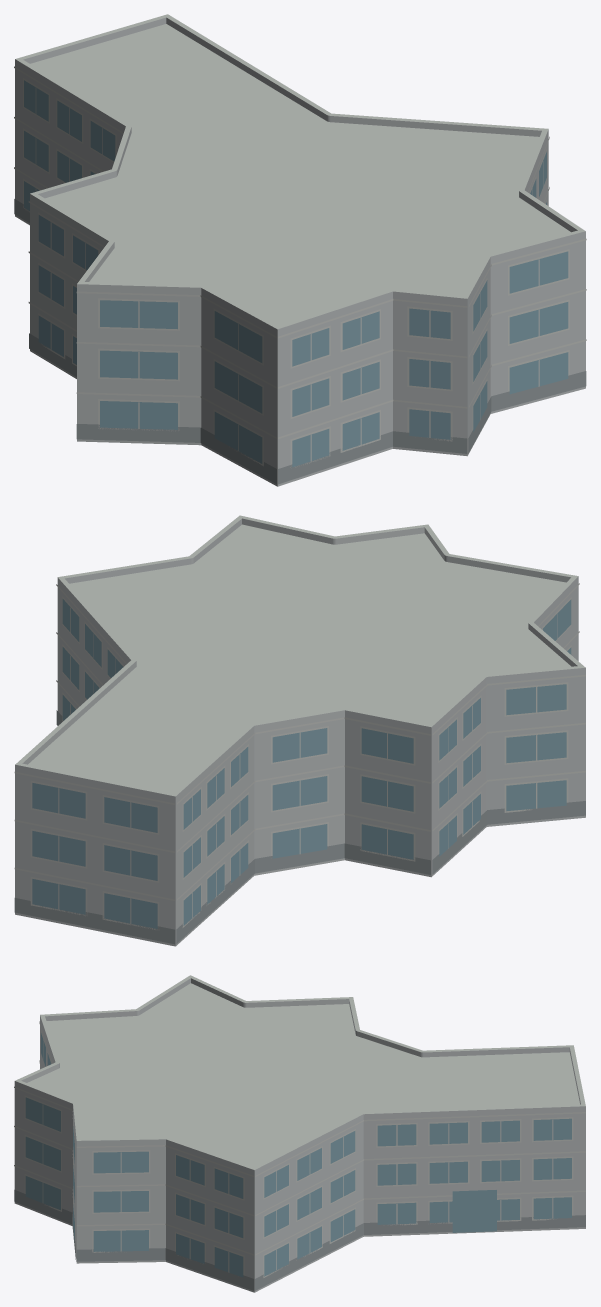
The model's file is public-d929ebdc-3e35-48f5-955c-ca3e9eb0e8f2.glb.
3 renders of one model, top to bottom at view 1: azimuth 30°, elevation 25°; view 2: azimuth 150°, elevation 25°; view 3: azimuth 270°, elevation 25°, orthographic. The views are drawn at different scales.
Visible parts, largest first — view 1: public-d929ebdc-3e35-48f5-955c-ca3e9eb0e8f2; view 2: public-d929ebdc-3e35-48f5-955c-ca3e9eb0e8f2; view 3: public-d929ebdc-3e35-48f5-955c-ca3e9eb0e8f2.
Boxes of the visible parts, x1,y1,x2,y2 form: public-d929ebdc-3e35-48f5-955c-ca3e9eb0e8f2: (14,14,586,486); public-d929ebdc-3e35-48f5-955c-ca3e9eb0e8f2: (14,515,585,946); public-d929ebdc-3e35-48f5-955c-ca3e9eb0e8f2: (14,975,585,1292).
Size of the model in its own units: 31.31 by 9.15 by 38.75.
